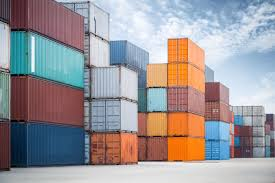container_door: (90, 99, 122, 134), (91, 131, 122, 166), (167, 62, 188, 86), (168, 87, 188, 111), (167, 36, 187, 60)
container_no_door: (90, 66, 123, 99), (166, 112, 190, 136), (168, 136, 189, 160), (146, 137, 167, 161), (147, 112, 168, 136), (147, 88, 168, 111), (147, 63, 168, 86)
